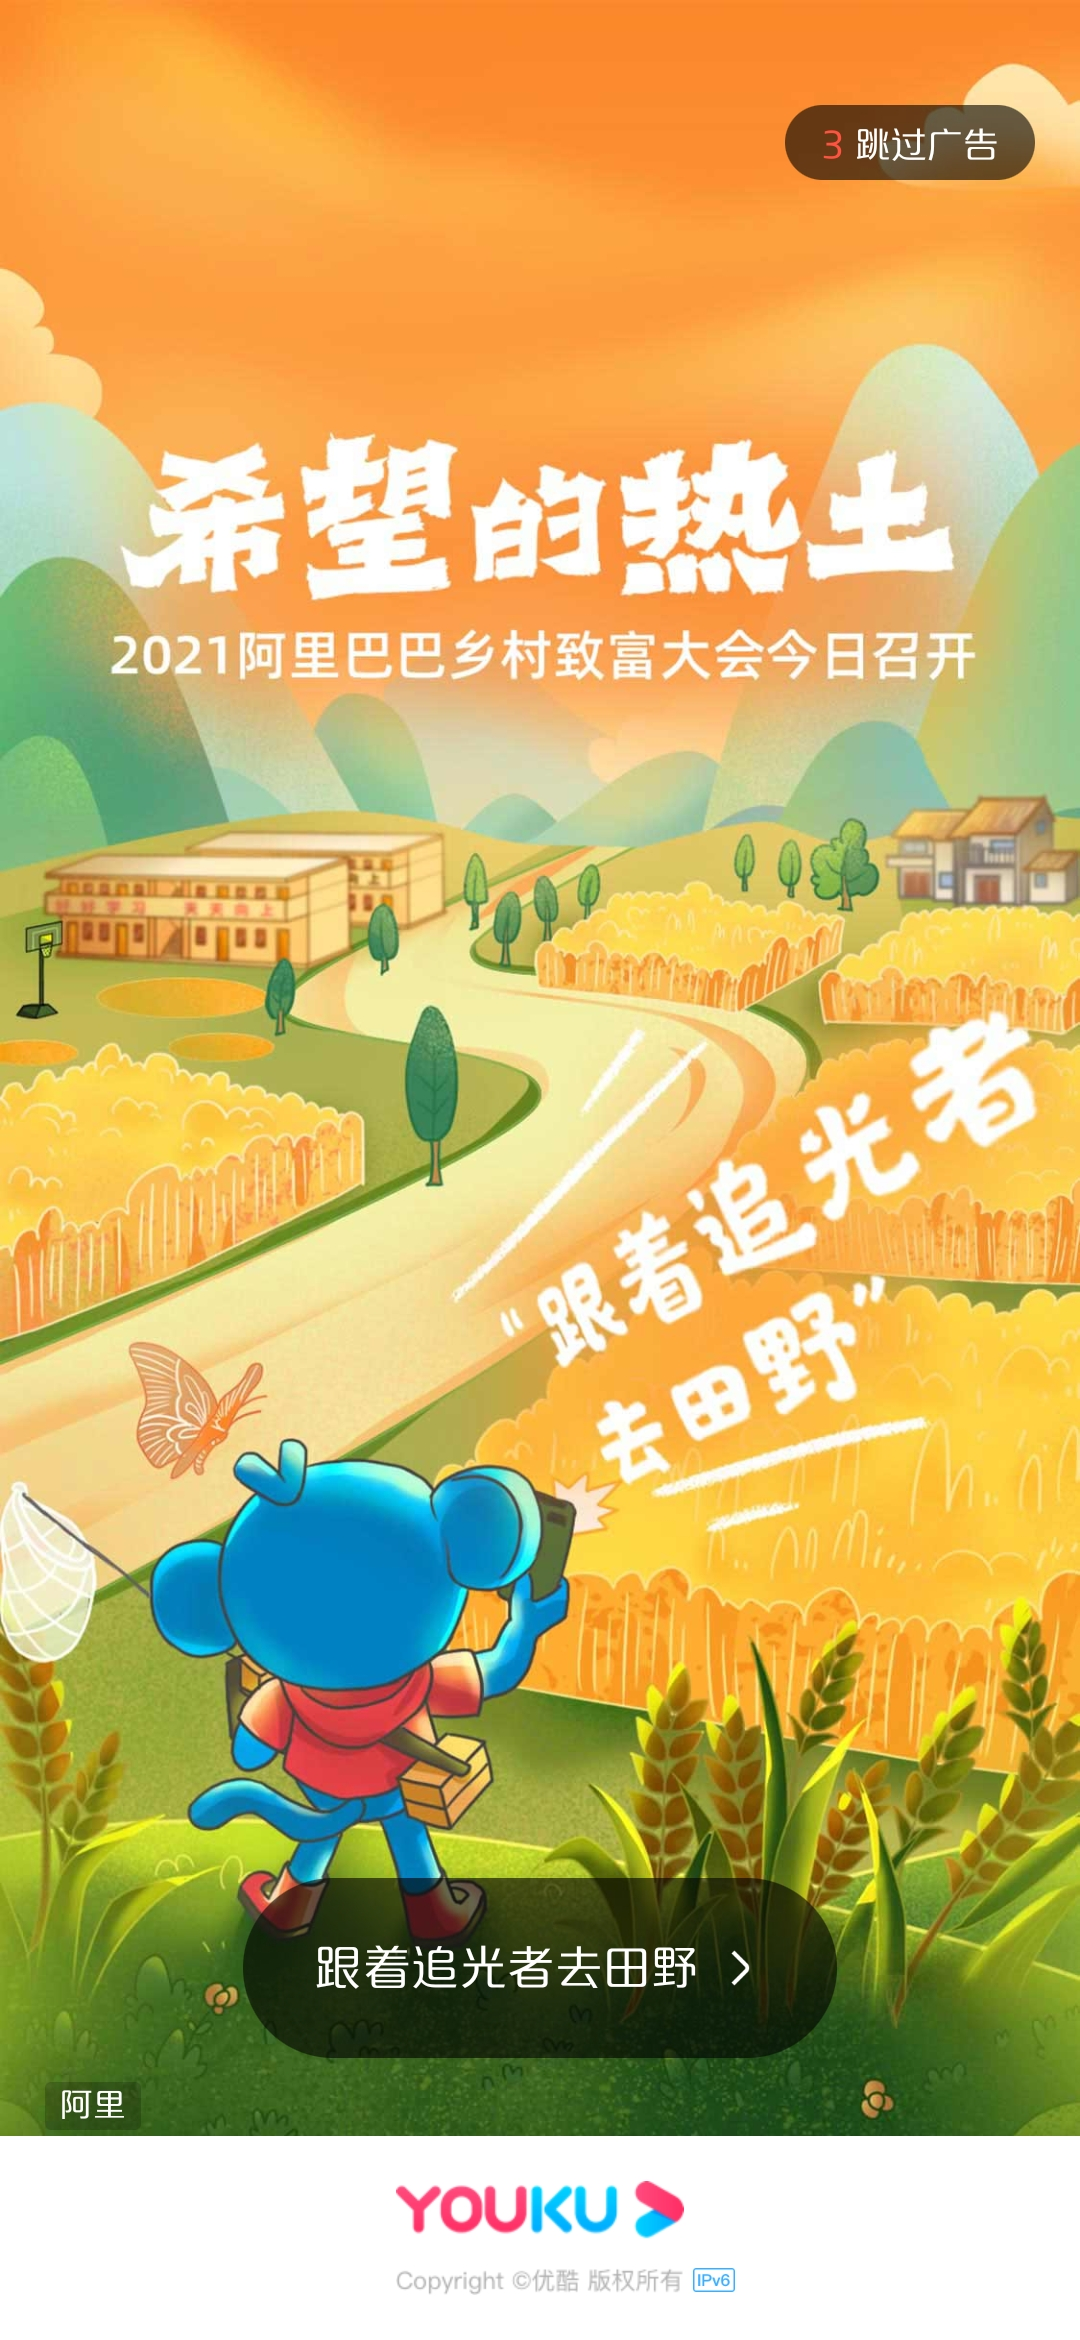skip: (797, 109, 1019, 175)
